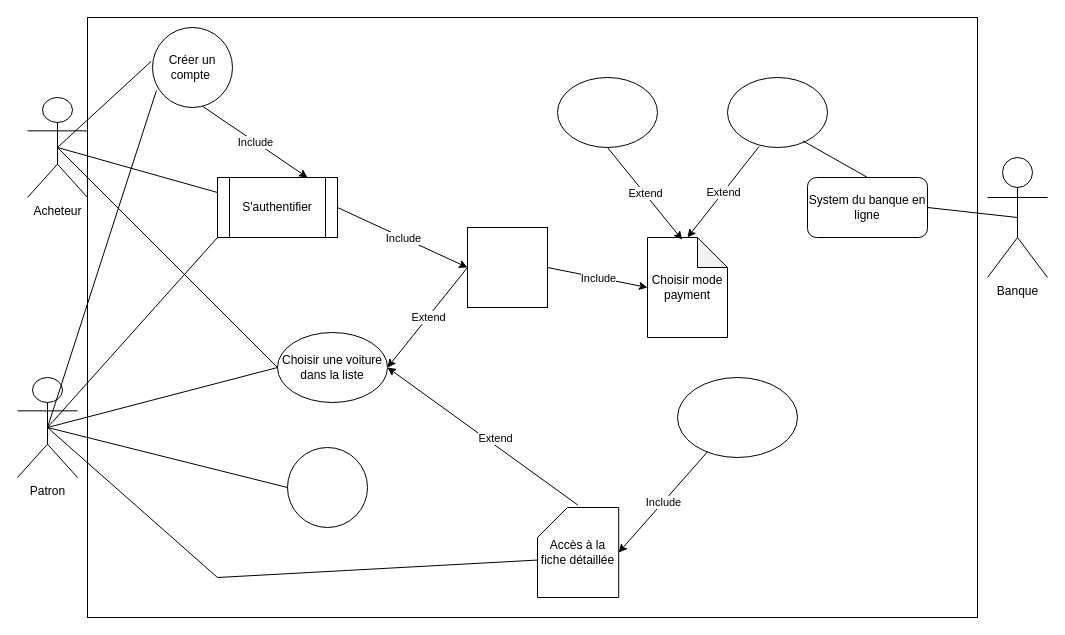
Some shapes in this 1065 by 635 pixel diagram are drawn without their labels. Each missing label, with the box of its shape:
Achat en ligne: (466, 226, 548, 308)
Appliquer pret au banque: (726, 76, 828, 148)
Créer fiche détaillée: (286, 446, 368, 528)
Transfer paypal: (556, 76, 658, 148)
Être connecté comme administrateur: (676, 376, 798, 458)
